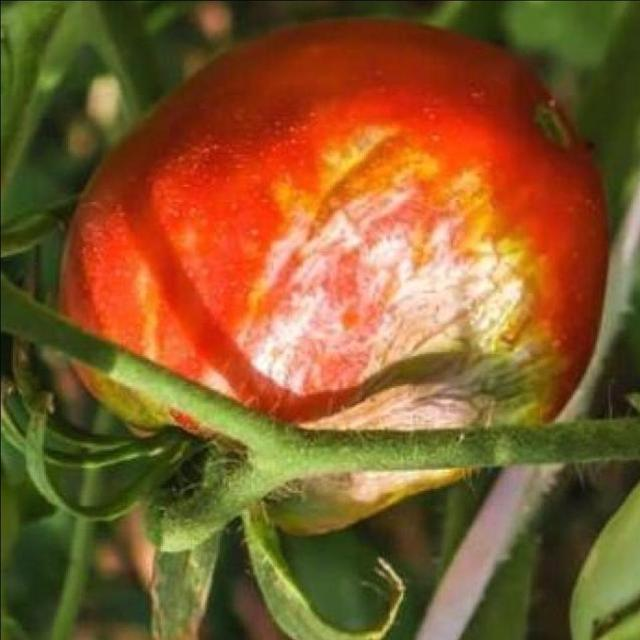Sunscald Fruit: (131, 102, 371, 323)
